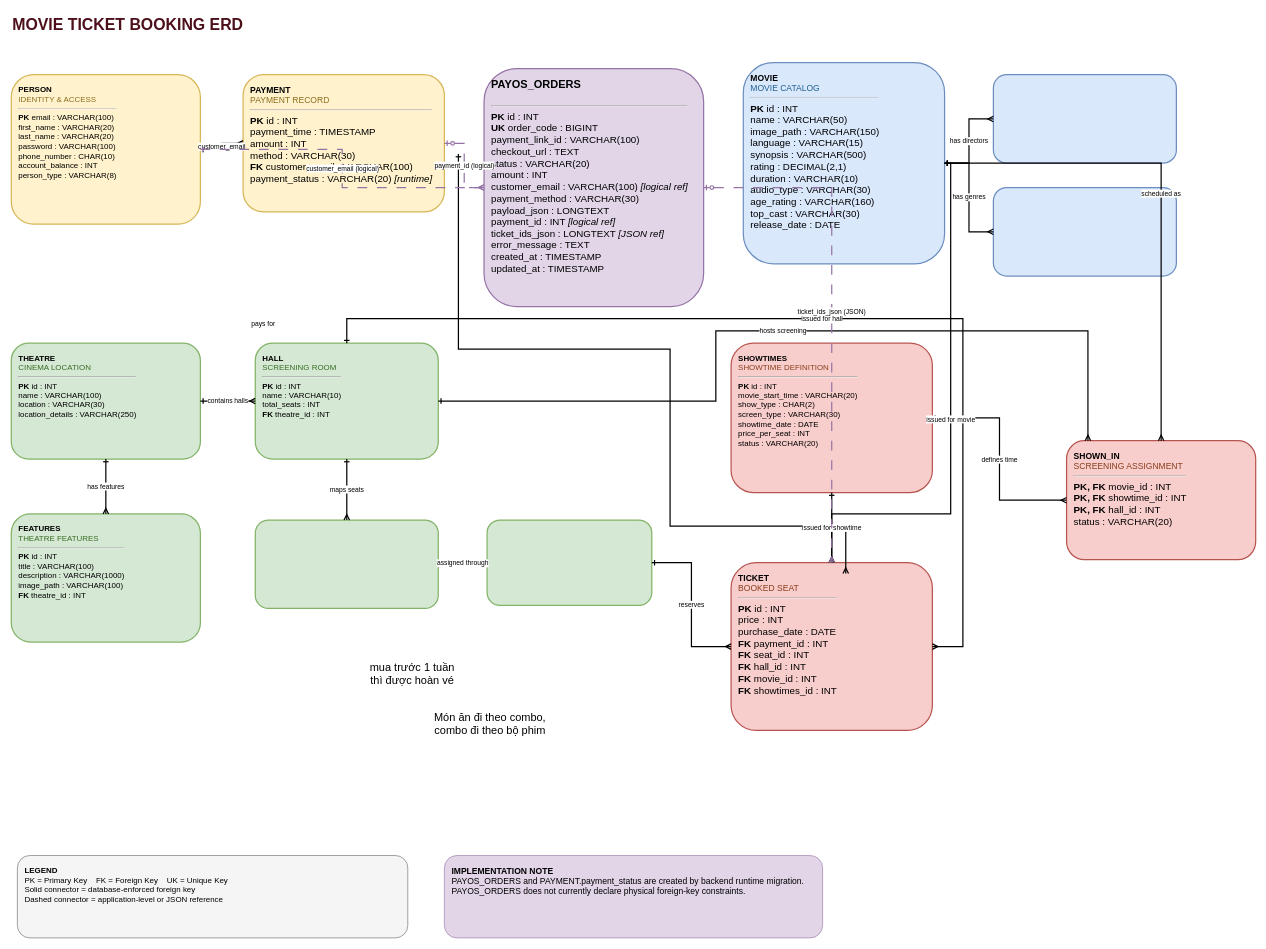
The diagram is 1266 pixels wide and 949 high, and some of its shapes have lost their labels. The centre of each missing label's shape, as x and y in pixels:
HALLWISE_SEAT HALL-SEAT MAP PK, FK hall_id : INT PK, FK seat_id : INT: (346,564)
MOVIE_DIRECTORS DIRECTOR VALUES PK, FK movie_id : INT PK director : VARCHAR(30): (1084,118)
MOVIE_GENRE GENRE VALUES PK, FK movie_id : INT PK genre : VARCHAR(30): (1084,231)
SEAT SEAT CATALOG PK id : INT name : CHAR(2): (569,562)
